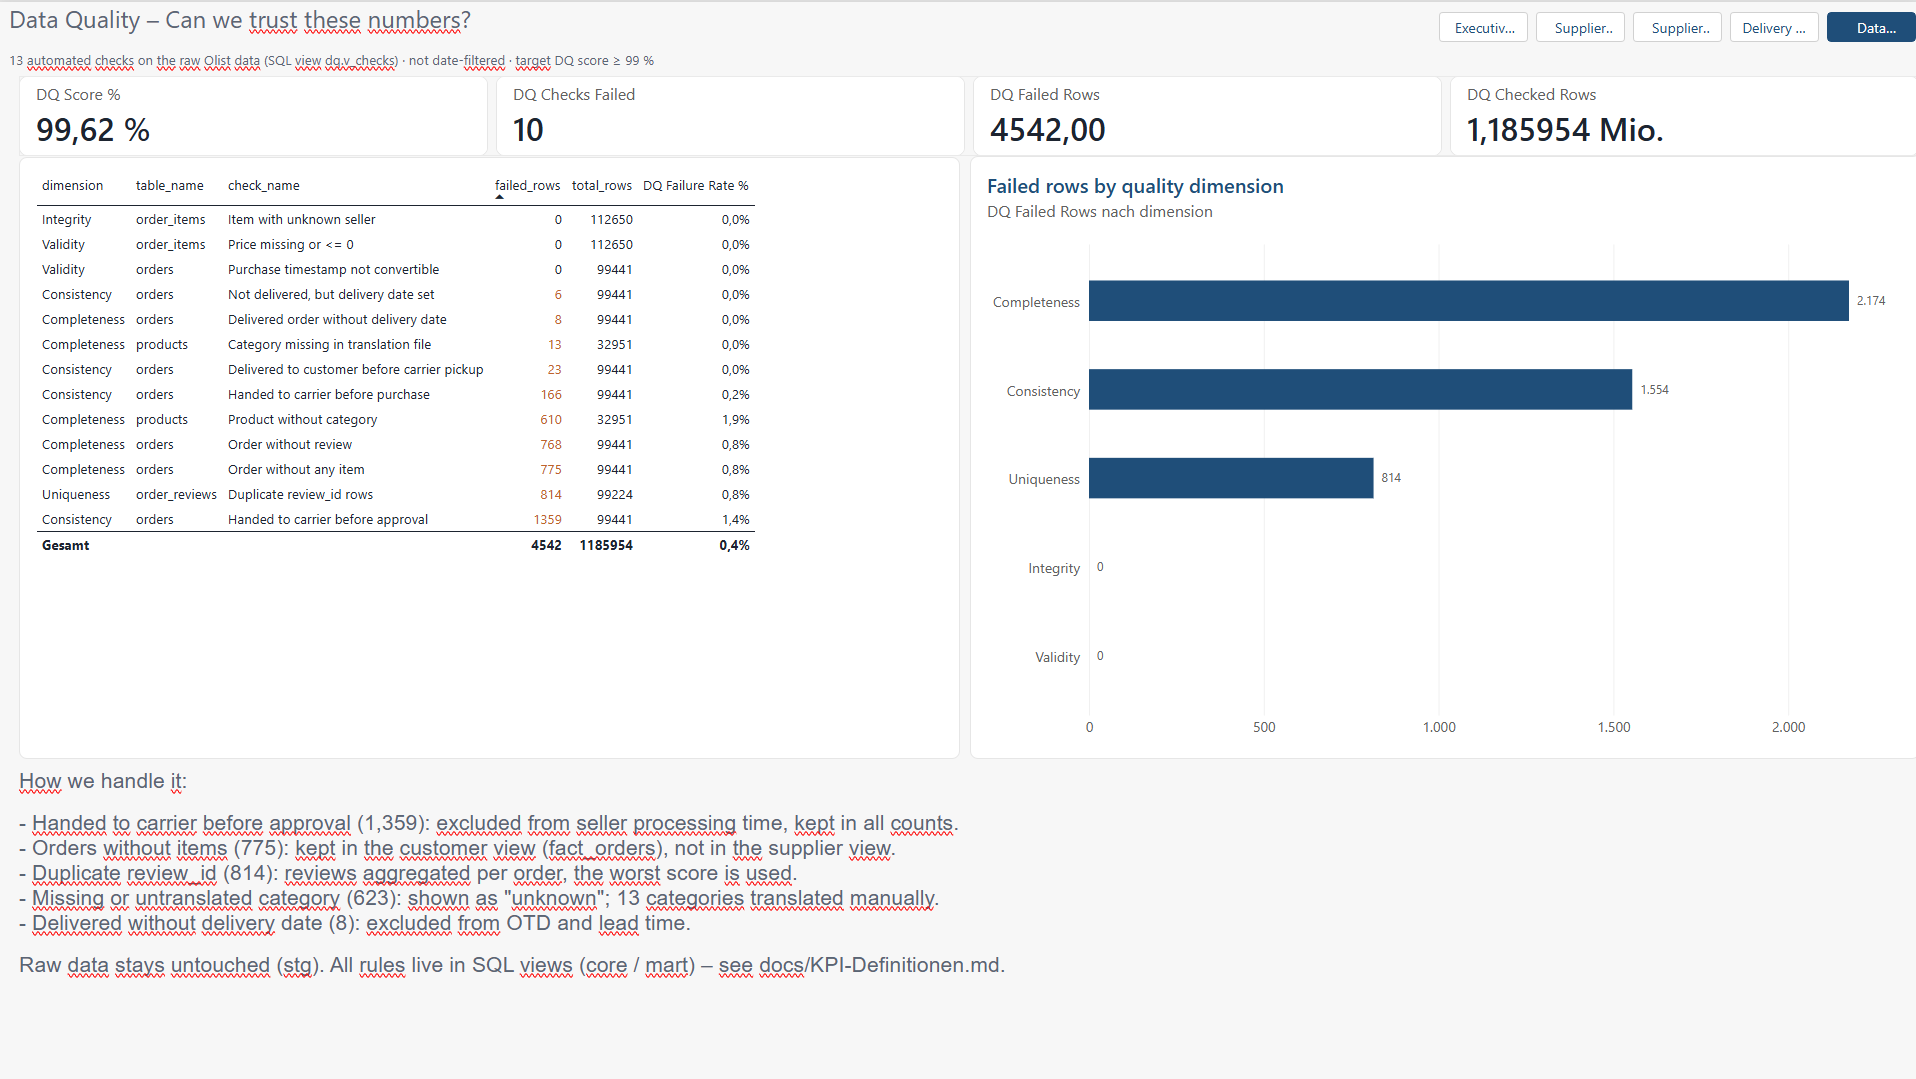

Layout of this report page (visuals, bound fields, positions):
{"tool":"powerbi","page":{"name":"Data Quality","canvas":[1920,1080],"ordinal":4},"visuals":[{"type":"textbox","box":[10.1,0,1755.8,280.1],"z":0},{"type":"cardVisual","fields":{"Data":["_Measures.DQ Score %","_Measures.DQ Checks Failed","_Measures.DQ Failed Rows","_Measures.DQ Checked Rows"]},"box":[20,74,1899.8,79.9],"z":1},{"type":"tableEx","fields":{"Values":["dq_checks.dimension","dq_checks.table_name","dq_checks.check_name","Sum(dq_checks.failed_rows)","Sum(dq_checks.total_rows)","_Measures.DQ Failure Rate %"]},"box":[20.2,155.2,940.3,601.8],"z":2},{"type":"clusteredBarChart","title":"Failed rows by quality dimension","fields":{"Category":["dq_checks.dimension"],"Y":["_Measures.DQ Failed Rows"]},"box":[970.7,154.1,950.4,602.9],"z":3},{"type":"textbox","box":[20.2,767.1,1899.8,304.8],"z":4},{"type":"pageNavigator","box":[1439.7,10.1,480,30],"z":5}]}

Visuals, with their boxes in screenshot pixels (x1, y1, x2, y2), scaled from the page's 1920x1080 canvas onto the 1916x1079 screenshot:
textbox: [x1=10, y1=0, x2=1762, y2=280]
cardVisual - _Measures.DQ Score % x _Measures.DQ Checks Failed: [x1=20, y1=74, x2=1915, y2=154]
tableEx - dq_checks.dimension x dq_checks.table_name: [x1=20, y1=155, x2=958, y2=756]
"Failed rows by quality dimension" clusteredBarChart: [x1=969, y1=154, x2=1915, y2=756]
textbox: [x1=20, y1=766, x2=1915, y2=1071]
pageNavigator: [x1=1437, y1=10, x2=1915, y2=40]
